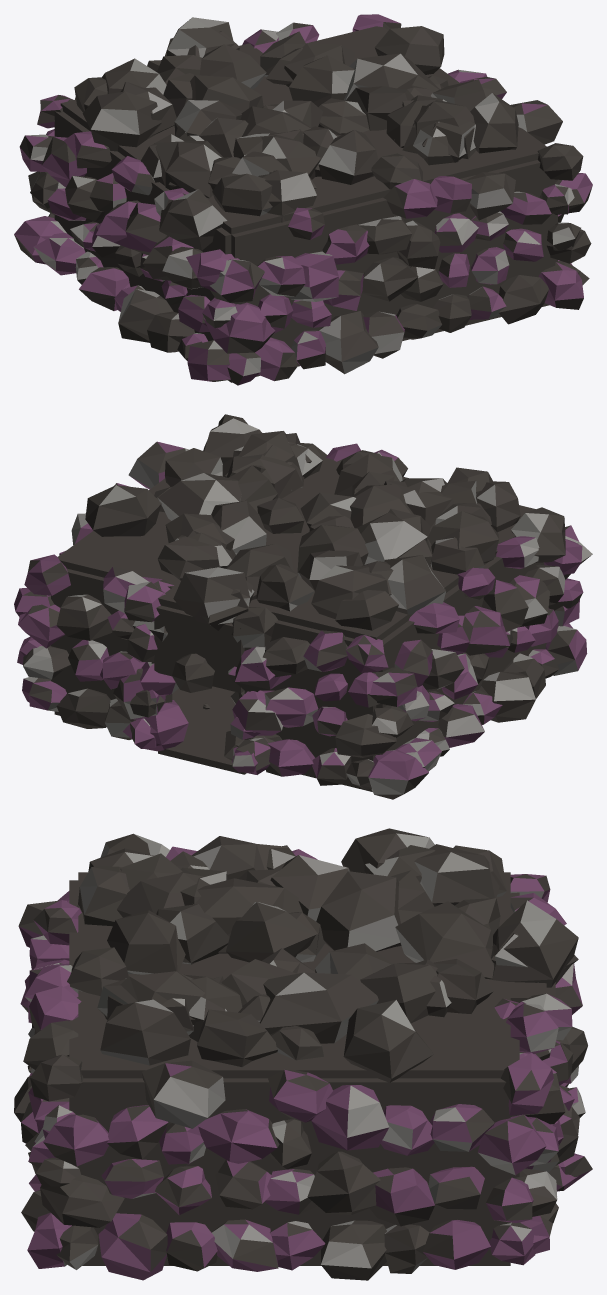
Rendered from Cave_Crystal_Cavern.fbx.
The picture shows the model from 3 angles, top to bottom: view 1: azimuth 30°, elevation 25°; view 2: azimuth 150°, elevation 25°; view 3: azimuth 270°, elevation 25°; orthographic projection. The views are drawn at different scales.
Visible parts, largest first — view 1: Decor, Wall3, Ceiling2, Wall6; view 2: Decor, Ceiling2, Wall8, Wall6, Wall1, Floor2, Wall2, Floor1; view 3: Decor, Wall4, Ceiling2, Wall3, Ceiling1.
Part boxes in pixels (x1,y1,x2,y2): Decor: (14, 14, 592, 385); Wall3: (231, 160, 555, 363); Ceiling2: (60, 26, 546, 234); Wall6: (54, 111, 231, 341); Decor: (14, 414, 592, 799); Ceiling2: (58, 450, 535, 639); Wall8: (154, 605, 244, 692); Wall6: (376, 556, 546, 754); Wall1: (262, 620, 376, 784); Floor2: (54, 686, 372, 791); Wall2: (51, 568, 172, 712); Floor1: (158, 739, 246, 774); Decor: (14, 828, 592, 1280); Wall4: (78, 1078, 510, 1261); Ceiling2: (78, 872, 510, 1078); Wall3: (69, 880, 78, 1166); Ceiling1: (510, 982, 546, 1002).
Bounding box in the file's own units: 67.96 × 31.06 × 64.29.
